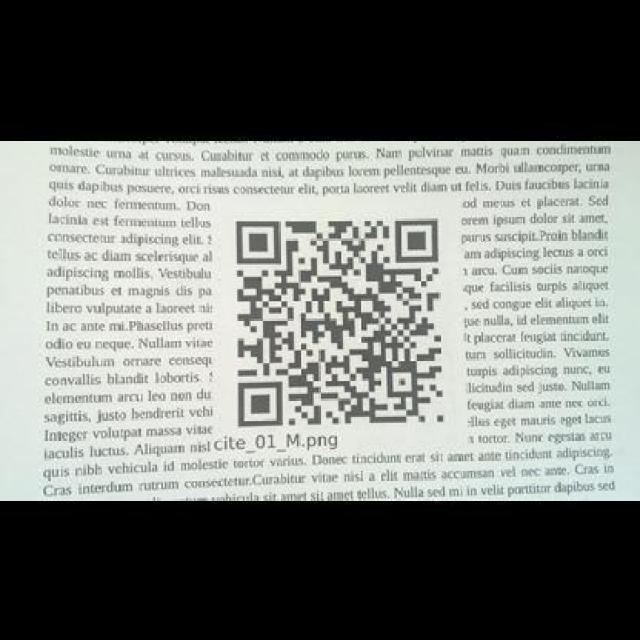QRCode: (229, 212, 449, 432)
